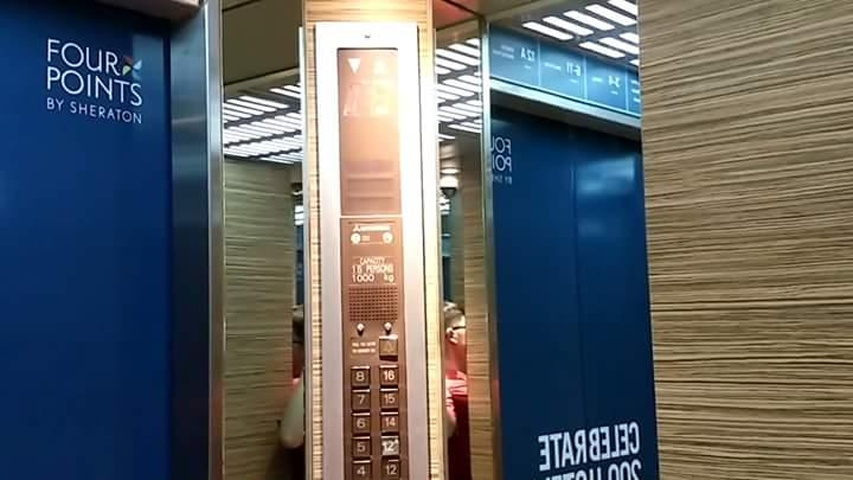12: (381, 456, 401, 479)
14: (380, 412, 401, 434)
15: (378, 387, 400, 411)
16: (378, 365, 399, 387)
4: (351, 459, 374, 480)
5: (351, 435, 373, 459)
6: (351, 411, 371, 435)
7: (350, 388, 372, 411)
8: (349, 365, 372, 388)
alarm: (378, 336, 398, 358)
blur: (380, 435, 400, 455)
led: (336, 46, 402, 163)
